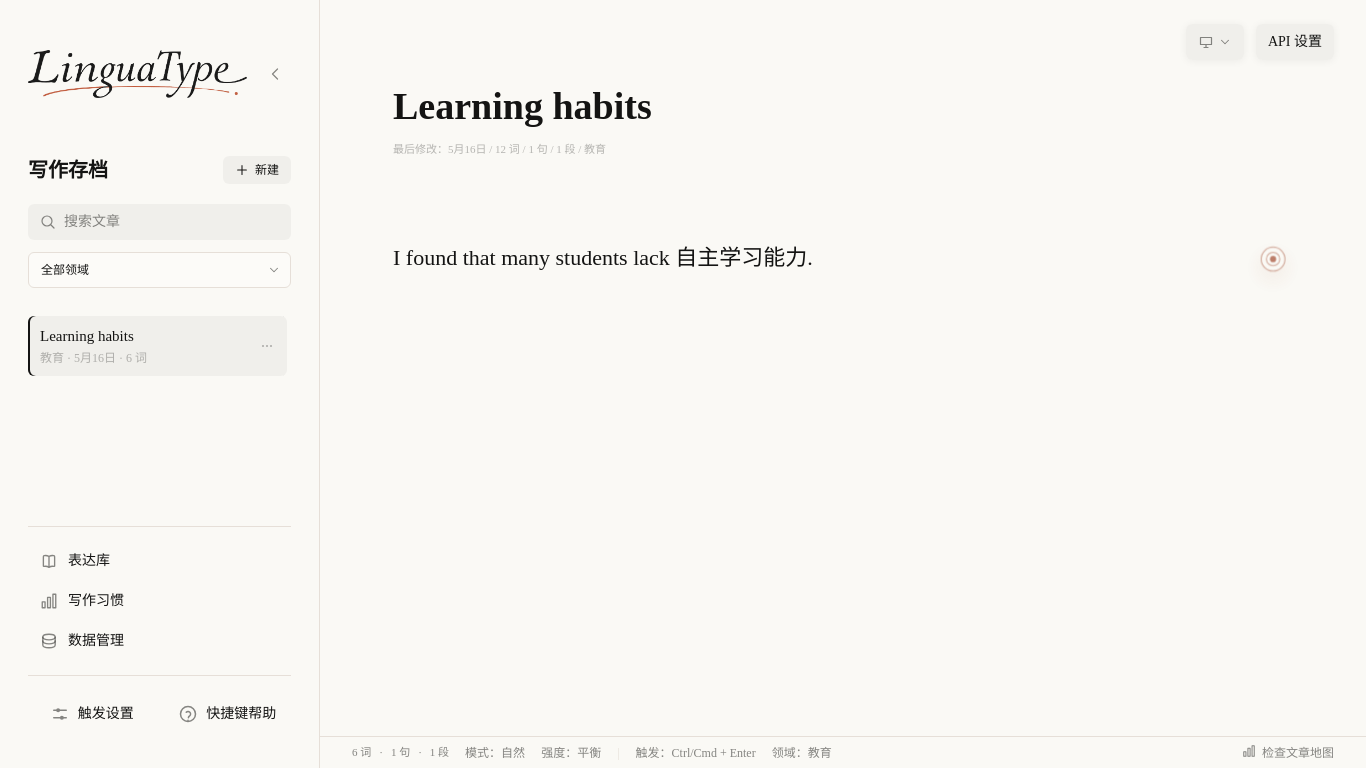
Test case: Chinese placeholder writing flow › opens a cached placeholder suggestion directly without requesting /api/enhance-fast again
Click the button named "AI": (1273,259) [1260,246,1286,271]
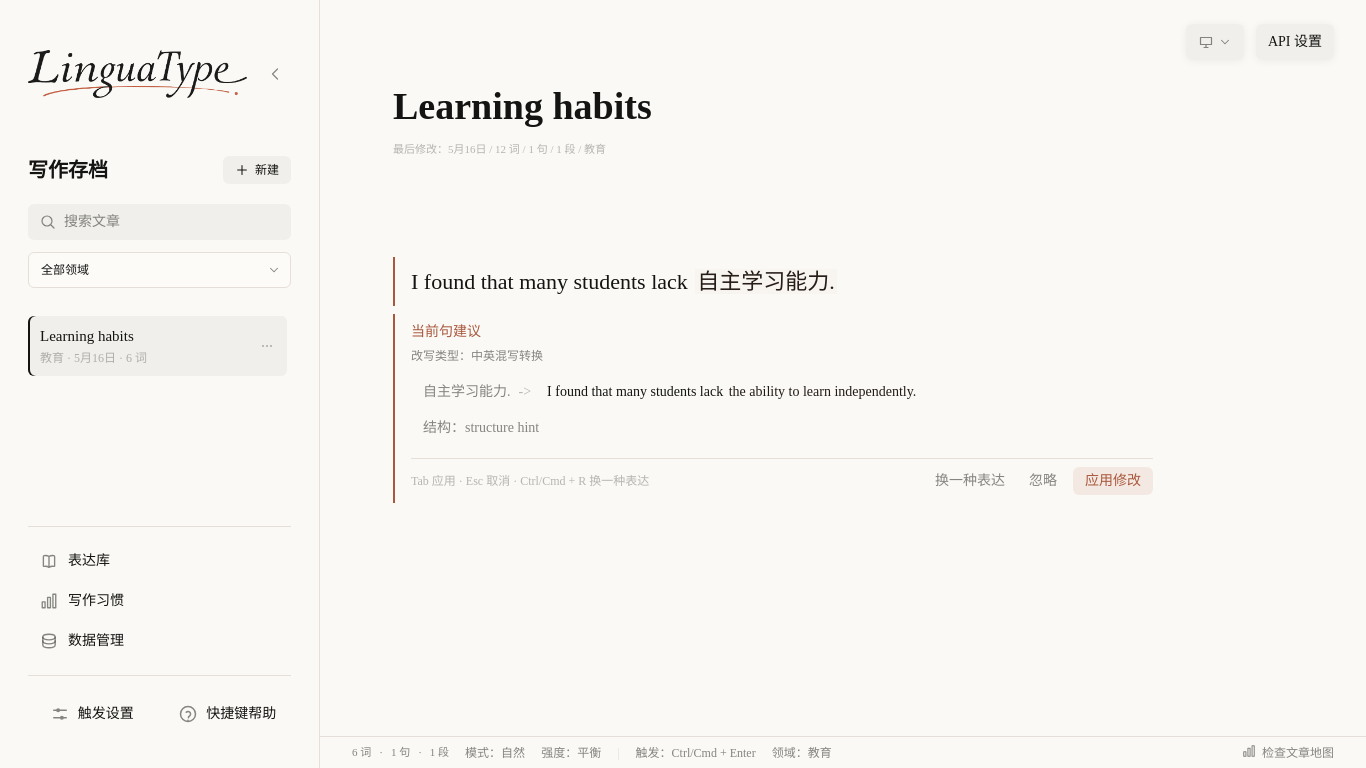
Expected: the element named "修改后句子" shows "the ability to learn independently", [729,384,916,399]
